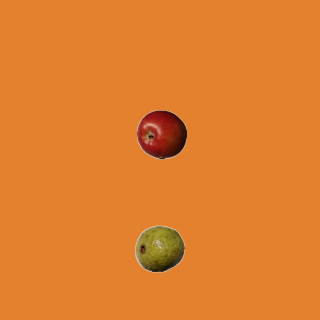Apple Braeburn: (136, 109, 186, 159)
Guava: (134, 223, 184, 273)
